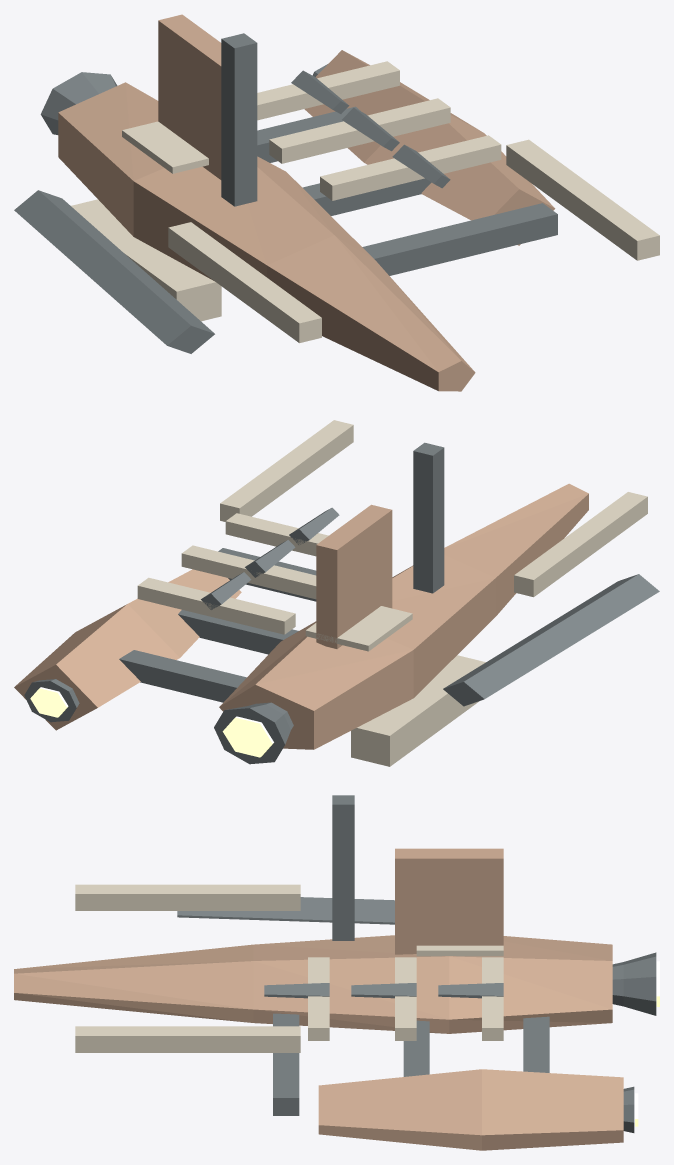
The picture shows the model from 3 angles, top to bottom: view 1: azimuth 30°, elevation 25°; view 2: azimuth 150°, elevation 25°; view 3: azimuth 270°, elevation 25°; orthographic projection. The views are drawn at different scales.
Size of the model in its own units: 10.46 by 5.63 by 13.76.
